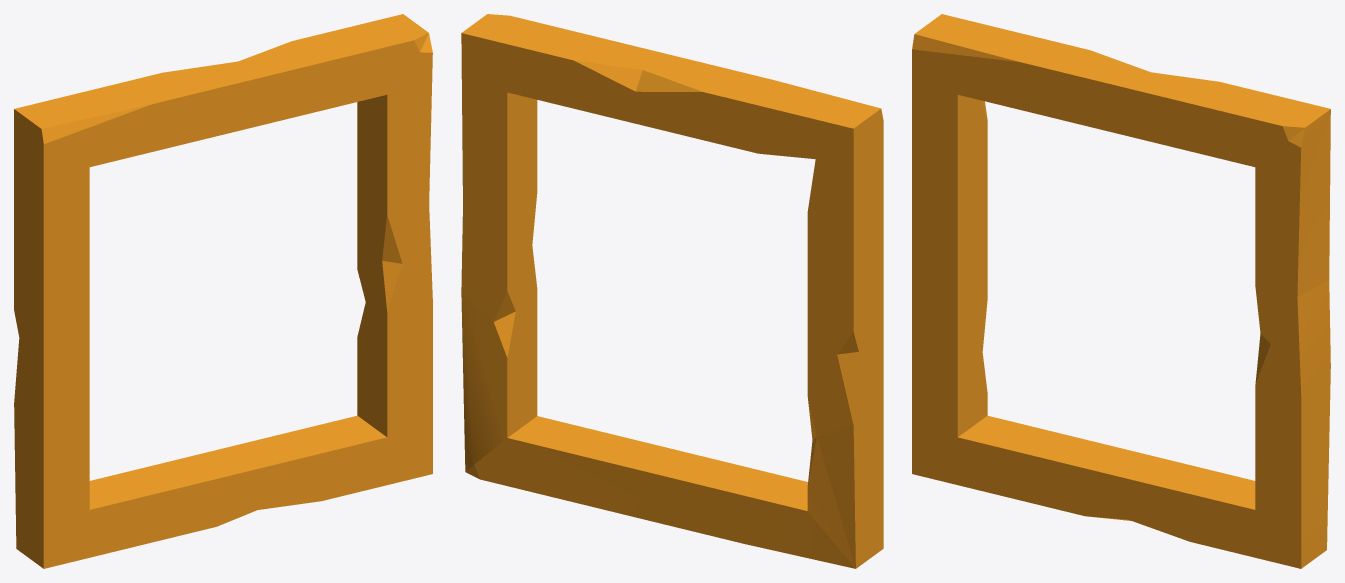
The model's file is SM_Buildings_WindowFrame_01P.fbx.
3 renders of one model, left to right at view 1: azimuth 30°, elevation 25°; view 2: azimuth 150°, elevation 25°; view 3: azimuth 330°, elevation 25°, orthographic.
Visible parts, largest first — view 1: SM_Buildings_WindowFrame_01P; view 2: SM_Buildings_WindowFrame_01P; view 3: SM_Buildings_WindowFrame_01P.
Boxes of the visible parts, left/top/right/bottom form: SM_Buildings_WindowFrame_01P: left=14, top=14, right=432, bottom=568; SM_Buildings_WindowFrame_01P: left=461, top=14, right=883, bottom=568; SM_Buildings_WindowFrame_01P: left=912, top=14, right=1330, bottom=568.
Size of the model in its own units: 131 by 141 by 17.29.
